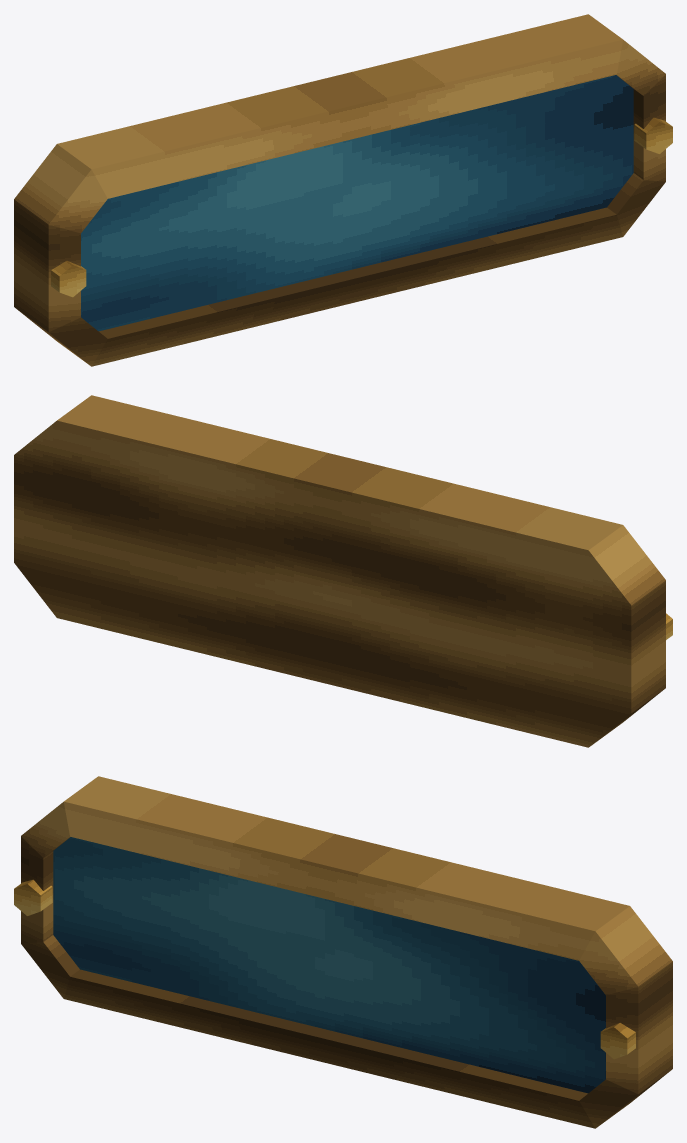
File: plaque_credits.glb
The picture shows the model from 3 angles, top to bottom: view 1: azimuth 30°, elevation 25°; view 2: azimuth 150°, elevation 25°; view 3: azimuth 330°, elevation 25°; orthographic projection.
Visible parts, largest first — view 1: CreditsPlaque; view 2: CreditsPlaque; view 3: CreditsPlaque.
Part boxes in pixels (x1=…): CreditsPlaque: x1=14, y1=14, x2=672, y2=366; CreditsPlaque: x1=14, y1=395, x2=672, y2=747; CreditsPlaque: x1=14, y1=776, x2=672, y2=1128.
Bounding box in the file's own units: 0.36 × 0.11 × 0.044.
3 materials, 3 textured.
